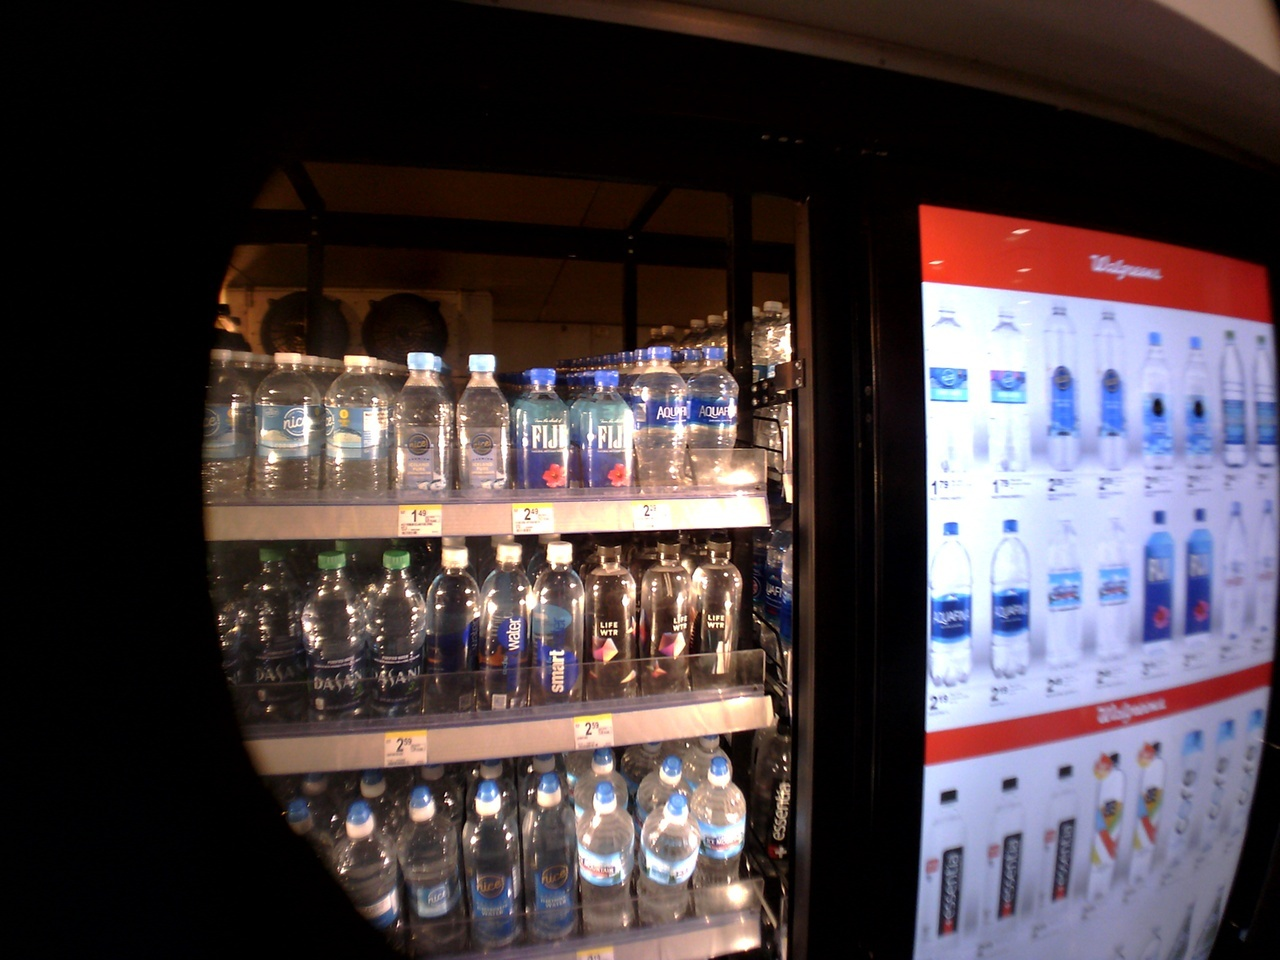shelf: (183, 524, 788, 762), (199, 730, 776, 960), (205, 332, 752, 539)
